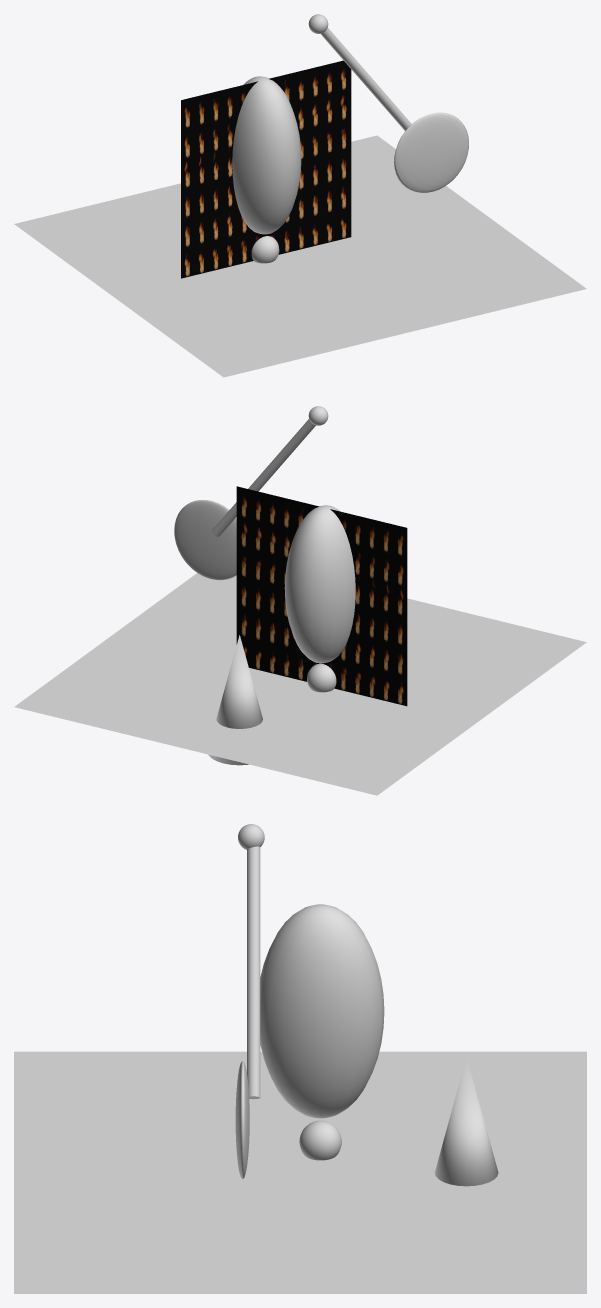
File: texture_flames.006.fbx
3 views of the same model, one above another, from view 1: azimuth 30°, elevation 25°; view 2: azimuth 150°, elevation 25°; view 3: azimuth 270°, elevation 25° (orthographic). The views are drawn at different scales.
Visible parts, largest first — view 1: Plane 1, Plane, MaskSphere, pSphere2, Cylinder, pSphere1; view 2: Plane 1, Plane, MaskSphere, pSphere2, Cone, Cylinder, pSphere1; view 3: Plane 1, MaskSphere, Cone, Cylinder, pSphere1, pSphere2.
Part boxes in pixels (x1,y1,x2,y2): Plane 1: [14, 135, 586, 377]; Plane: [181, 60, 351, 278]; MaskSphere: [232, 76, 301, 234]; pSphere2: [394, 112, 468, 192]; Cylinder: [320, 27, 411, 130]; pSphere1: [251, 236, 279, 263]; Plane 1: [14, 573, 586, 795]; Plane: [236, 486, 407, 706]; MaskSphere: [284, 505, 355, 663]; pSphere2: [174, 500, 236, 580]; Cone: [208, 635, 262, 765]; Cylinder: [212, 419, 315, 536]; pSphere1: [307, 663, 336, 692]; Plane 1: [14, 1051, 586, 1293]; MaskSphere: [260, 904, 384, 1118]; Cone: [434, 1057, 498, 1186]; Cylinder: [247, 846, 260, 1099]; pSphere1: [299, 1120, 341, 1160]; pSphere2: [235, 1061, 249, 1179].
Size of the model in its own units: 426 by 321 by 426.
Materials: 1 (1 with a texture image).
